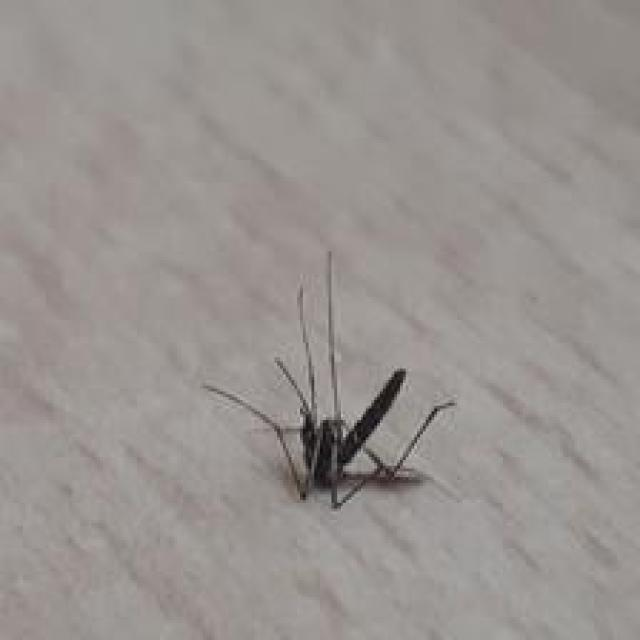Aedes albopictus: (203, 250, 457, 510)
